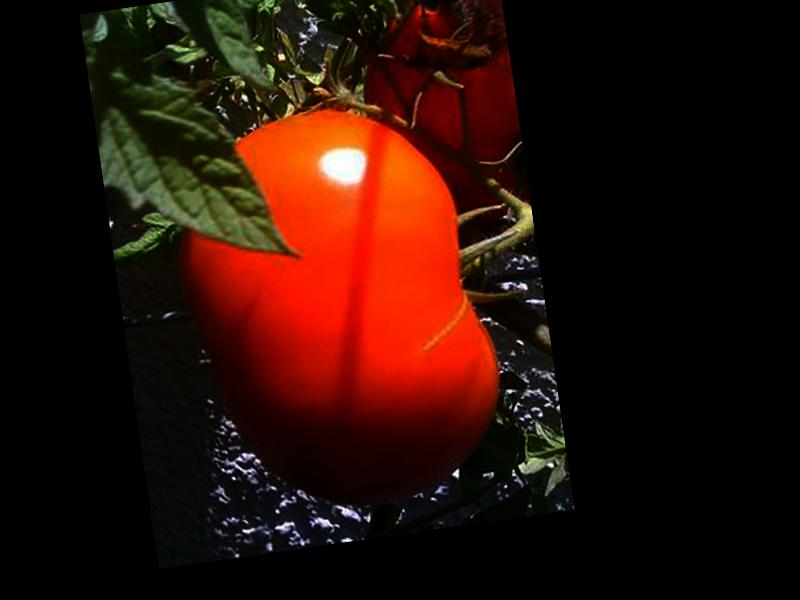Tomato: (162, 89, 515, 526)
